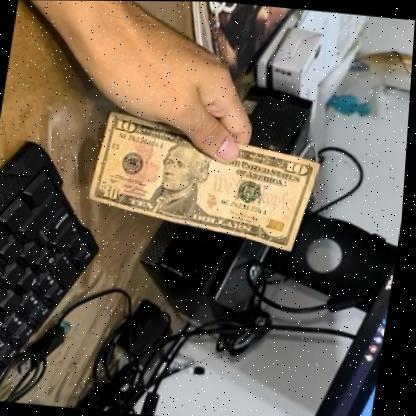ten-front: (82, 102, 328, 256)
